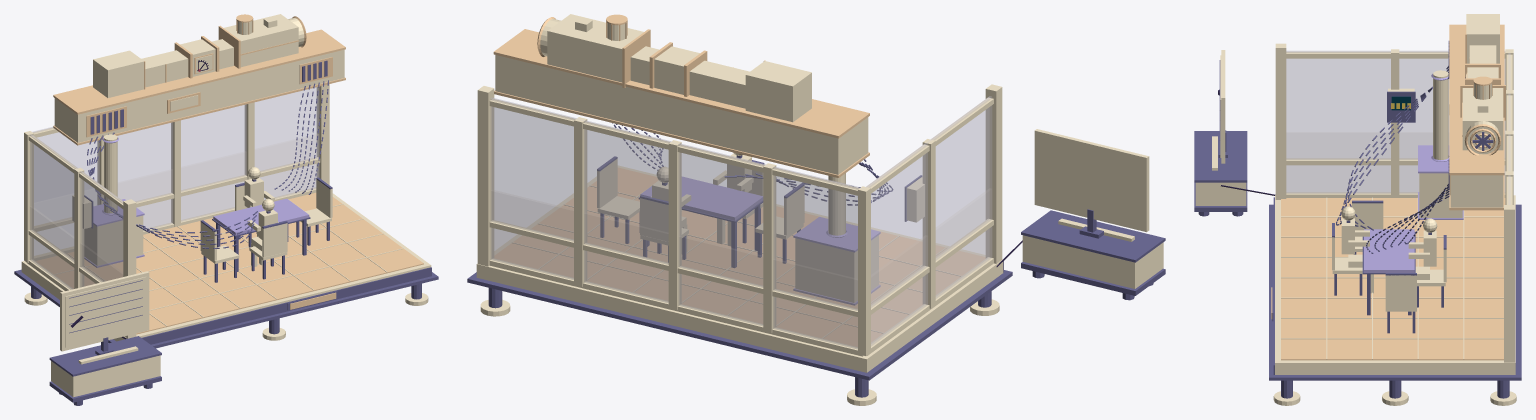
The model's file is air.glb.
3 renders of one model, left to right at view 1: azimuth 30°, elevation 25°; view 2: azimuth 150°, elevation 25°; view 3: azimuth 270°, elevation 25°, orthographic. The views are drawn at different scales.
Parts seen in each view (by area): view 1: air_cream, air_glass, air_peach, air_steel, air_teinte, air_sand; view 2: air_cream, air_glass, air_peach, air_teinte, air_steel, air_sand; view 3: air_cream, air_peach, air_glass, air_steel, air_teinte, air_sand.
Part boxes in pixels (left/top/right/bottom): air_cream: left=21, top=14, right=431, bottom=397; air_glass: left=29, top=87, right=319, bottom=289; air_peach: left=36, top=14, right=423, bottom=334; air_steel: left=14, top=60, right=438, bottom=405; air_teinte: left=32, top=135, right=317, bottom=288; air_sand: left=84, top=137, right=309, bottom=267; air_cream: left=476, top=14, right=1163, bottom=405; air_glass: left=491, top=96, right=991, bottom=348; air_peach: left=493, top=14, right=985, bottom=346; air_teinte: left=492, top=191, right=989, bottom=347; air_steel: left=467, top=123, right=1165, bottom=397; air_sand: left=640, top=176, right=880, bottom=305; air_cream: left=1195, top=14, right=1516, bottom=405; air_peach: left=1271, top=24, right=1505, bottom=360; air_glass: left=1286, top=50, right=1510, bottom=204; air_steel: left=1194, top=41, right=1521, bottom=398; air_teinte: left=1287, top=133, right=1432, bottom=192; air_sand: left=1364, top=74, right=1463, bottom=272.
Bounding box in the file's own units: 4.34 × 2.5 × 2.72.
